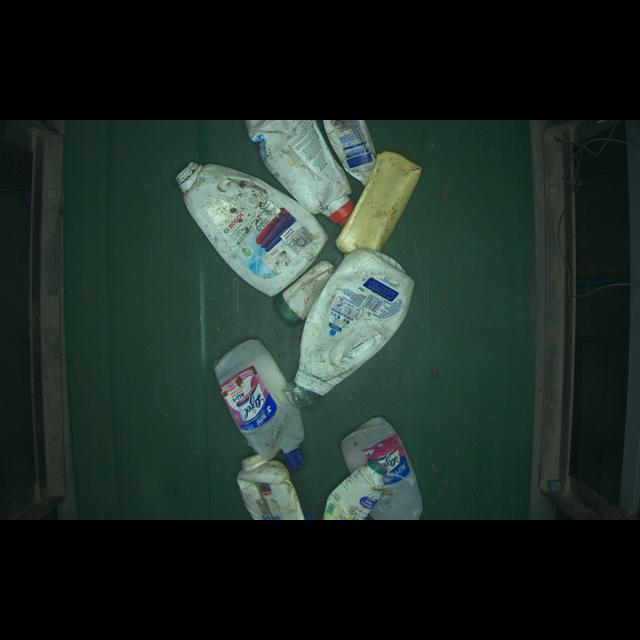mix PET: (203, 332, 311, 466), (337, 417, 451, 521), (227, 457, 312, 529), (318, 460, 395, 531)
